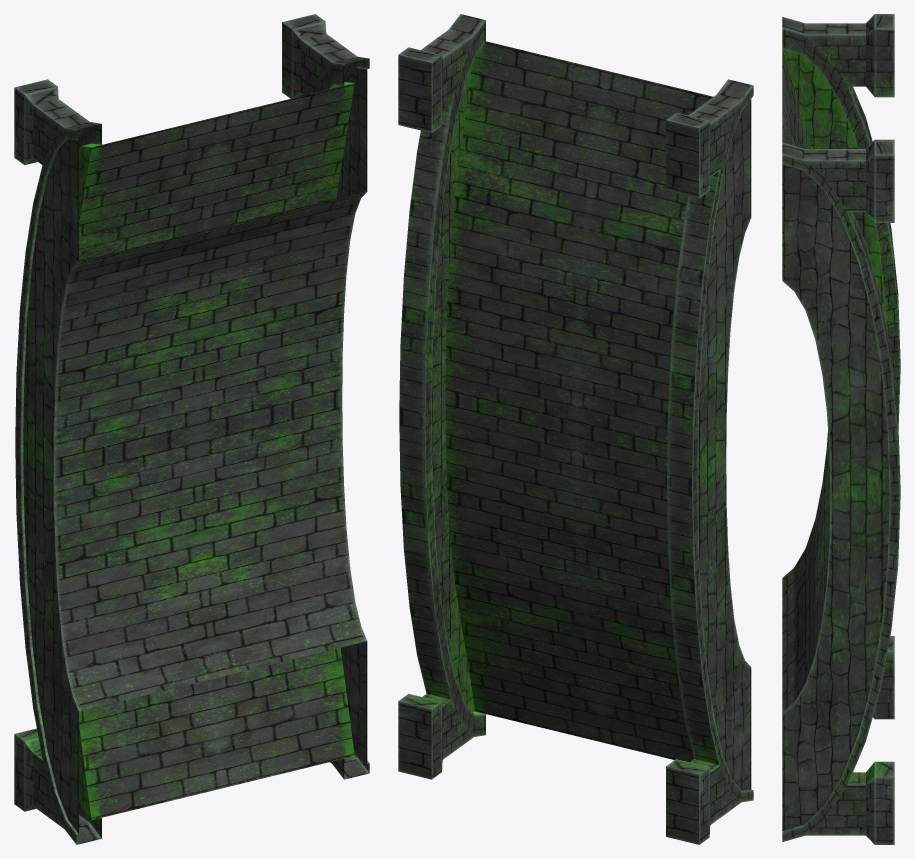
File: Bridge.fbx
The picture shows the model from 3 angles, left to right: view 1: azimuth 30°, elevation 25°; view 2: azimuth 150°, elevation 25°; view 3: azimuth 270°, elevation 25°; orthographic projection. The views are drawn at different scales.
Visible parts, largest first — view 1: Circle.002; view 2: Circle.002; view 3: Circle.002.
Part boxes in pixels (<box>): Circle.002: <box>14,14,369,844</box>; Circle.002: <box>398,14,753,844</box>; Circle.002: <box>782,14,900,844</box>.
Size of the model in its own units: 569 by 1294 by 201.
